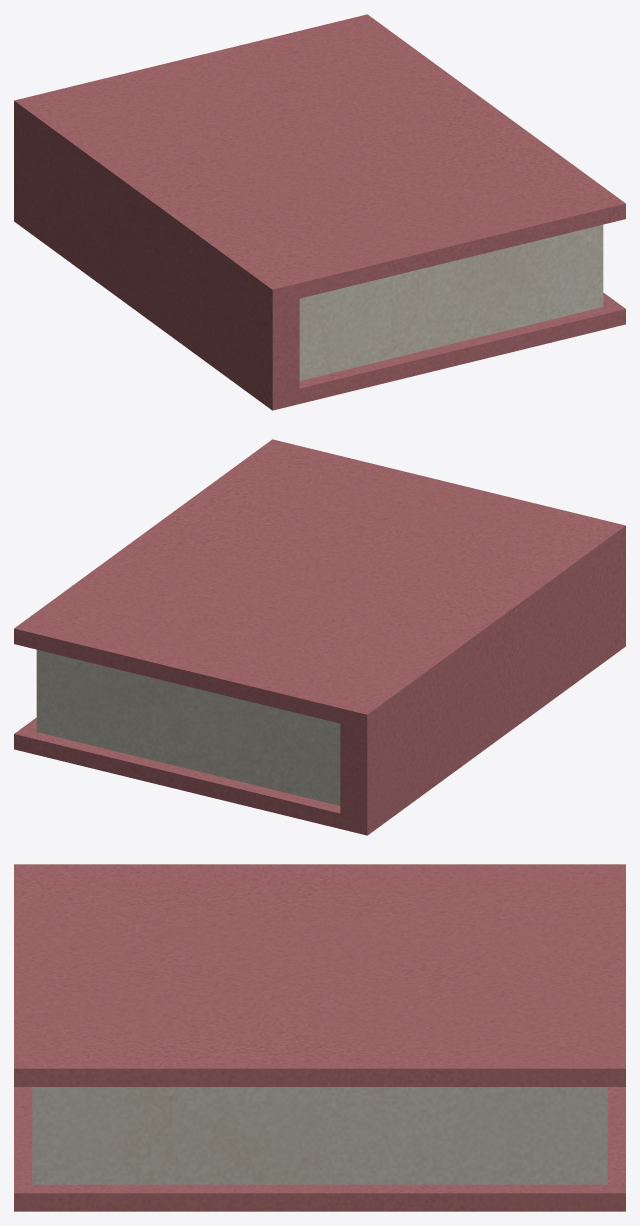
Rendered from book1.fbx.
The picture shows the model from 3 angles, top to bottom: view 1: azimuth 30°, elevation 25°; view 2: azimuth 150°, elevation 25°; view 3: azimuth 270°, elevation 25°; orthographic projection. The views are drawn at different scales.
Parts seen in each view (by area): view 1: pCube55; view 2: pCube55; view 3: pCube55.
Part boxes in pixels (x1,y1,x2,y2): pCube55: [14, 14, 625, 410]; pCube55: [14, 439, 625, 835]; pCube55: [14, 864, 625, 1211].
Bounding box in the file's own units: 0.2101 × 0.0686 × 0.2661.
